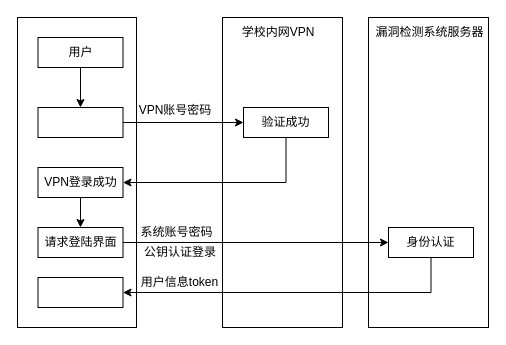
Some shapes in this 506 by 345 pixel diagram are drawn without their labels. Each missing label, with the centre of its shape:
"登录VPN" goes at (x=80, y=122).
"系统登录成功" goes at (x=80, y=292).
